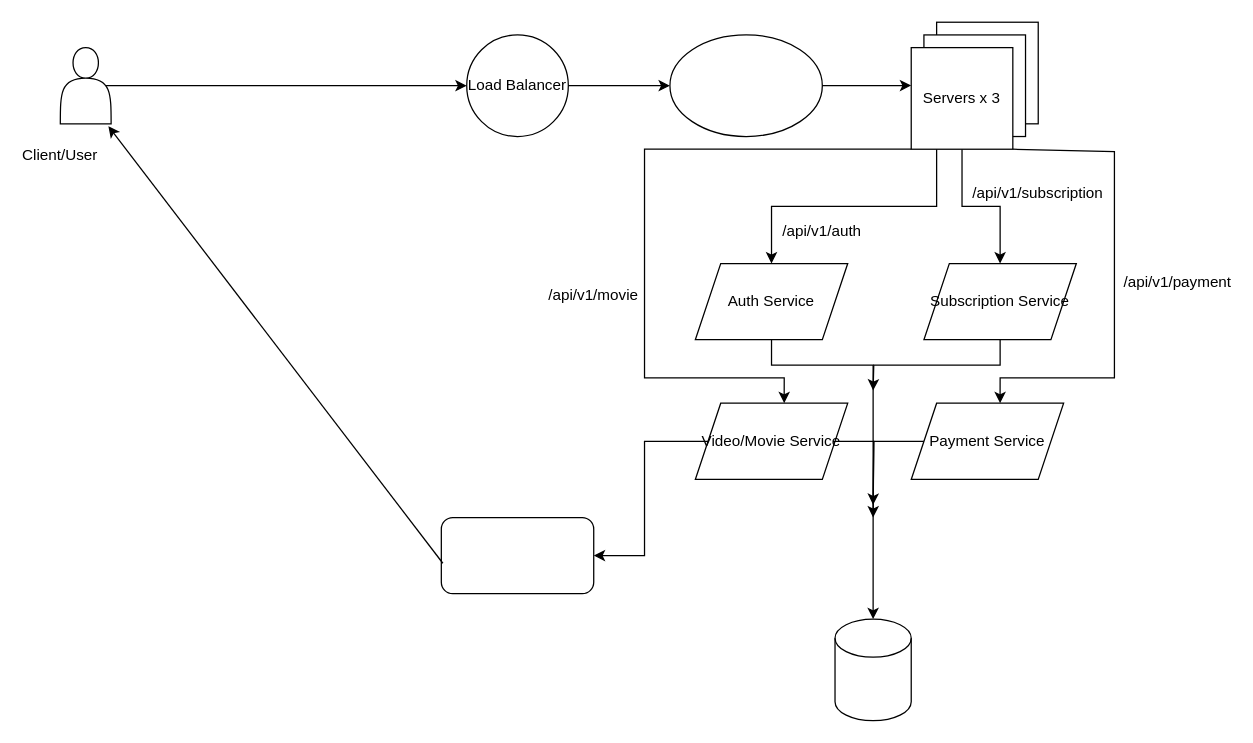
This 1253x743 diagram has some shape labels left out. The centre of each missing label's shape, as x and y in pixels:
API Gateway: the point at 745,85
CDN x 3 (1.35TB): the point at 517,555
DB(1.8Tb): the point at 872,669
